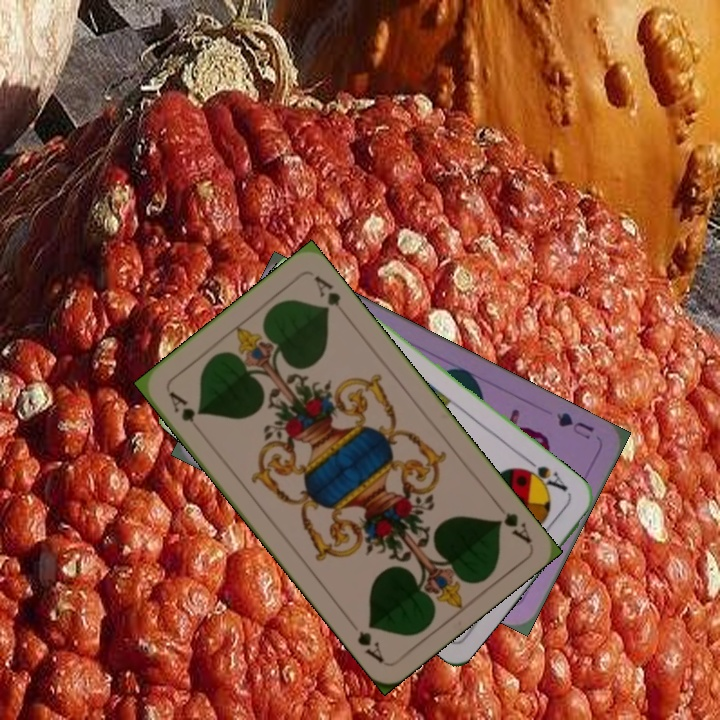GA: (490, 496, 534, 546), (164, 387, 204, 437)
GU: (550, 408, 597, 442)
SA: (517, 455, 571, 496)
